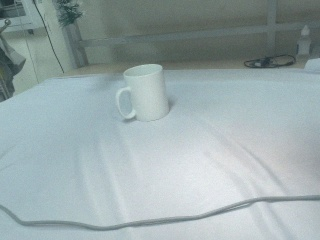bottle: (296, 25, 312, 67)
cup: (116, 63, 171, 123)
